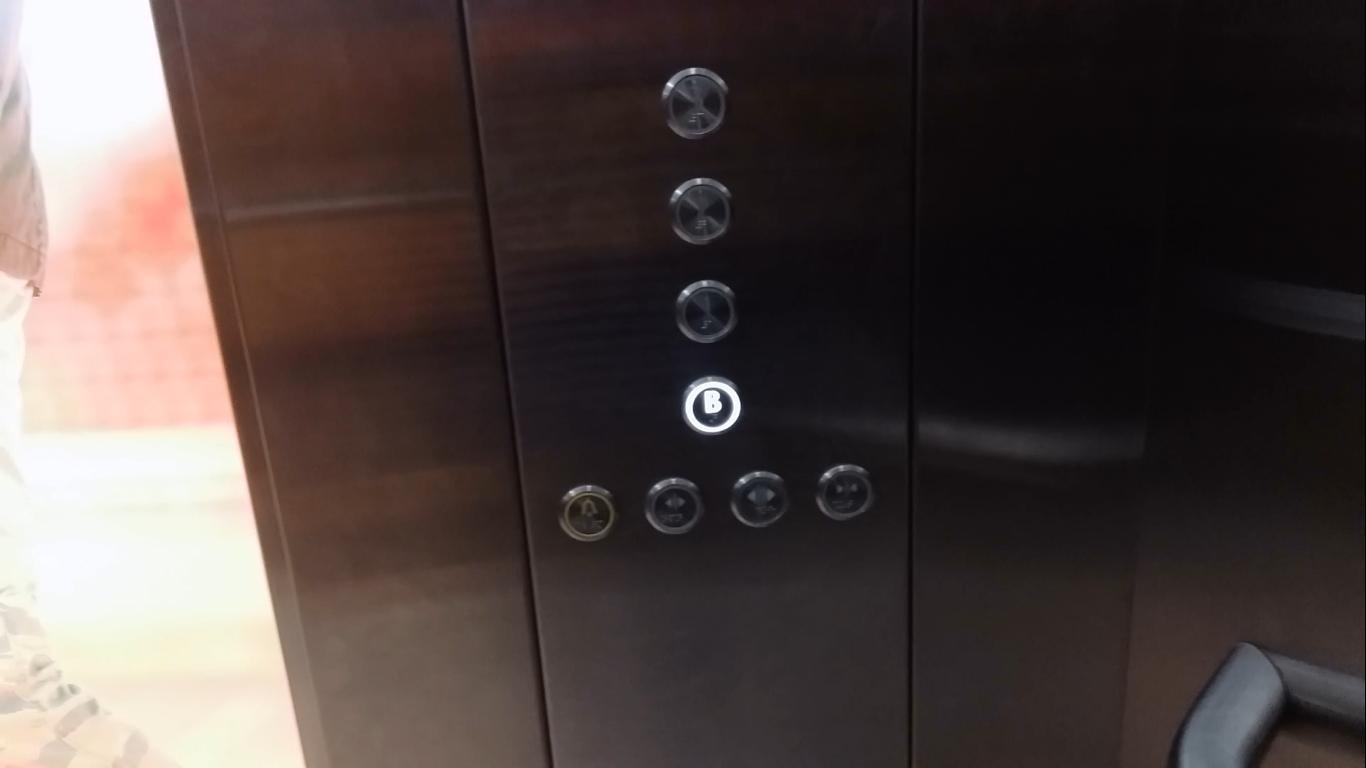1: (668, 275, 741, 347)
B: (676, 371, 749, 443)
alarm: (551, 477, 624, 549)
blur: (656, 62, 734, 144), (662, 173, 737, 248)
close: (807, 457, 880, 529)
open: (636, 472, 709, 544), (725, 464, 798, 536)
